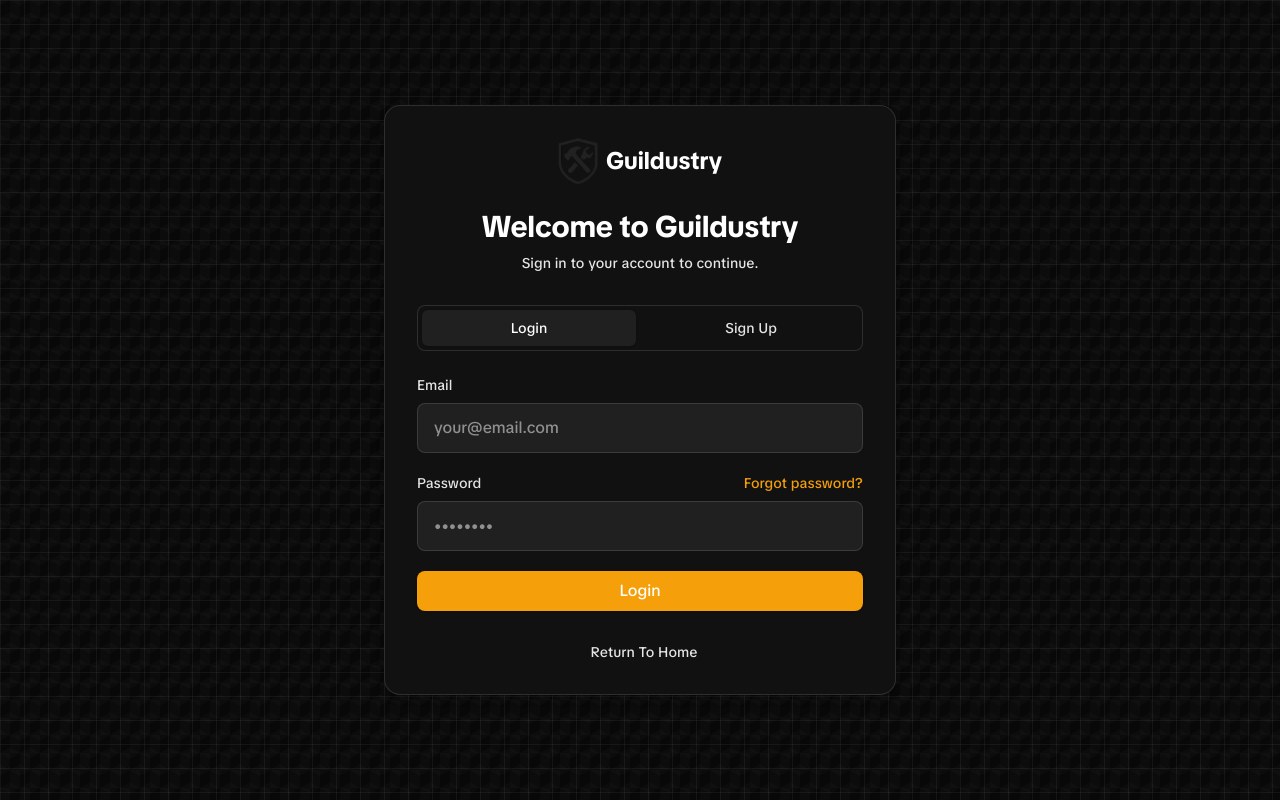
AuthForm Component › Login Mode › should display validation errors for empty fields
Click the button "Login" below "Email". click: (640, 591)
box: [417,571,863,611]
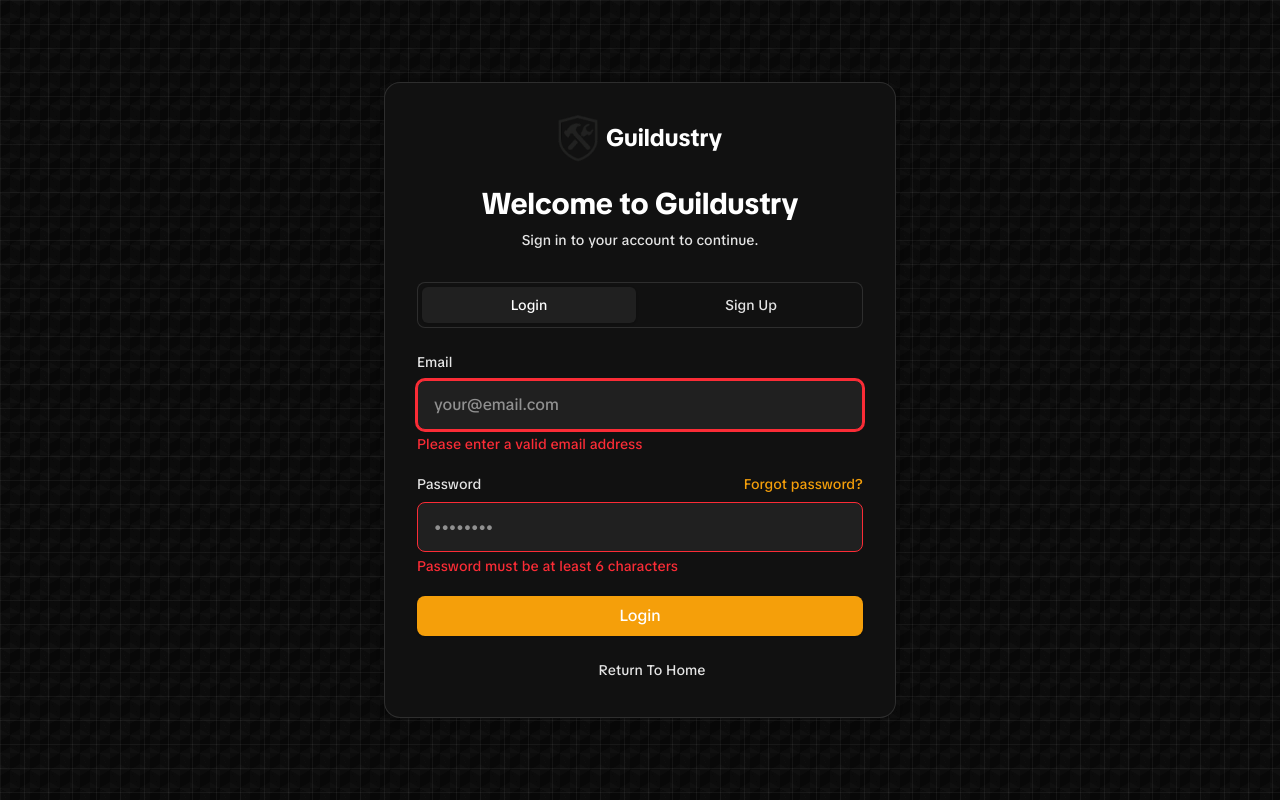
Expected: the text "Please enter a valid email address" is shown, [417,435,642,453]
